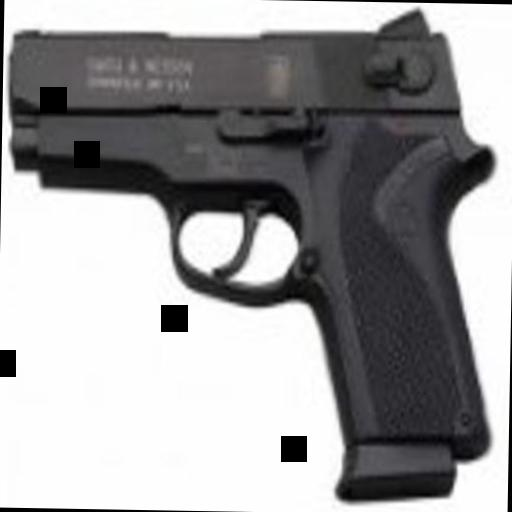Handgun: (0, 0, 489, 493)
